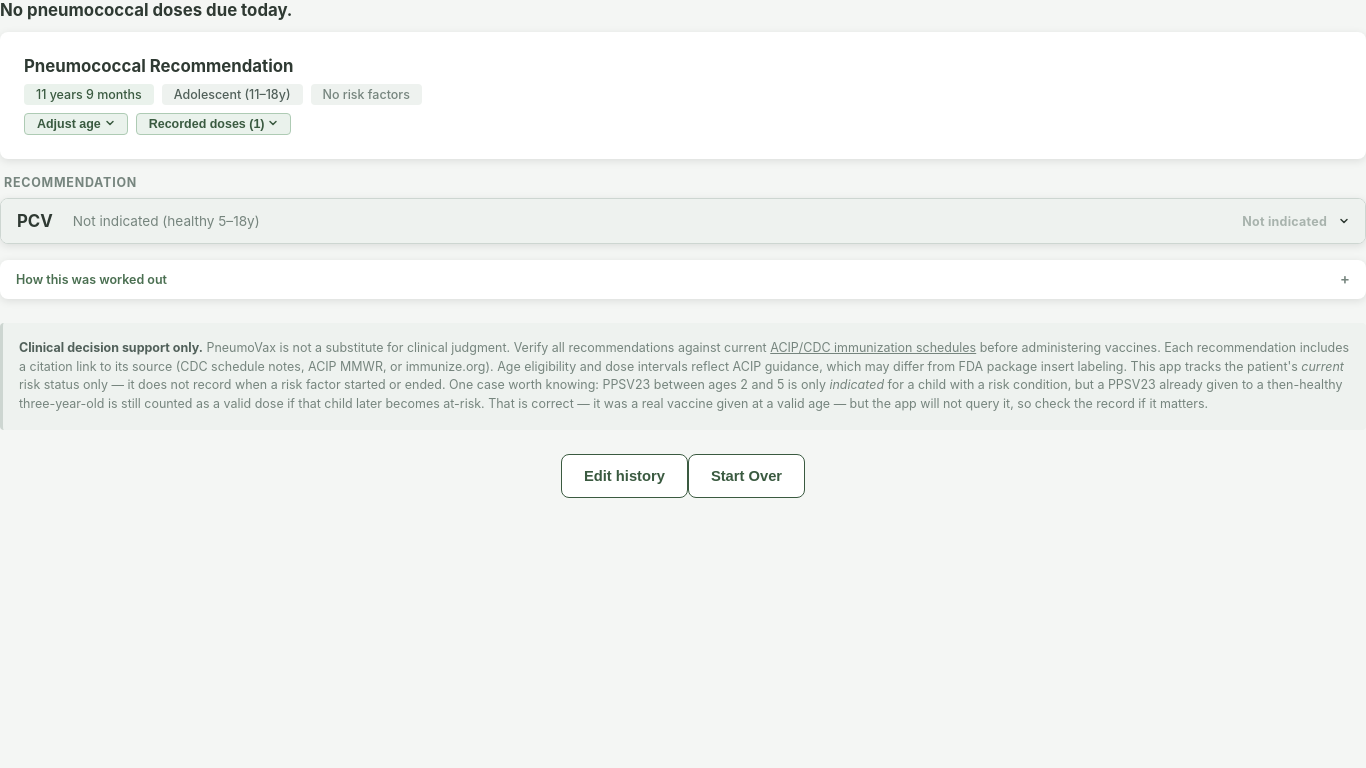
it: S11 / P5-5 — Escape closes the Results panels › sweeps never-typed rows on Escape, exactly as closing by mouse does
This screenshot has width=1366, height=768.
Click the button "Recorded doses (1)" at coordinates (214, 124), box top-left (136, 113), bottom-right (292, 135)
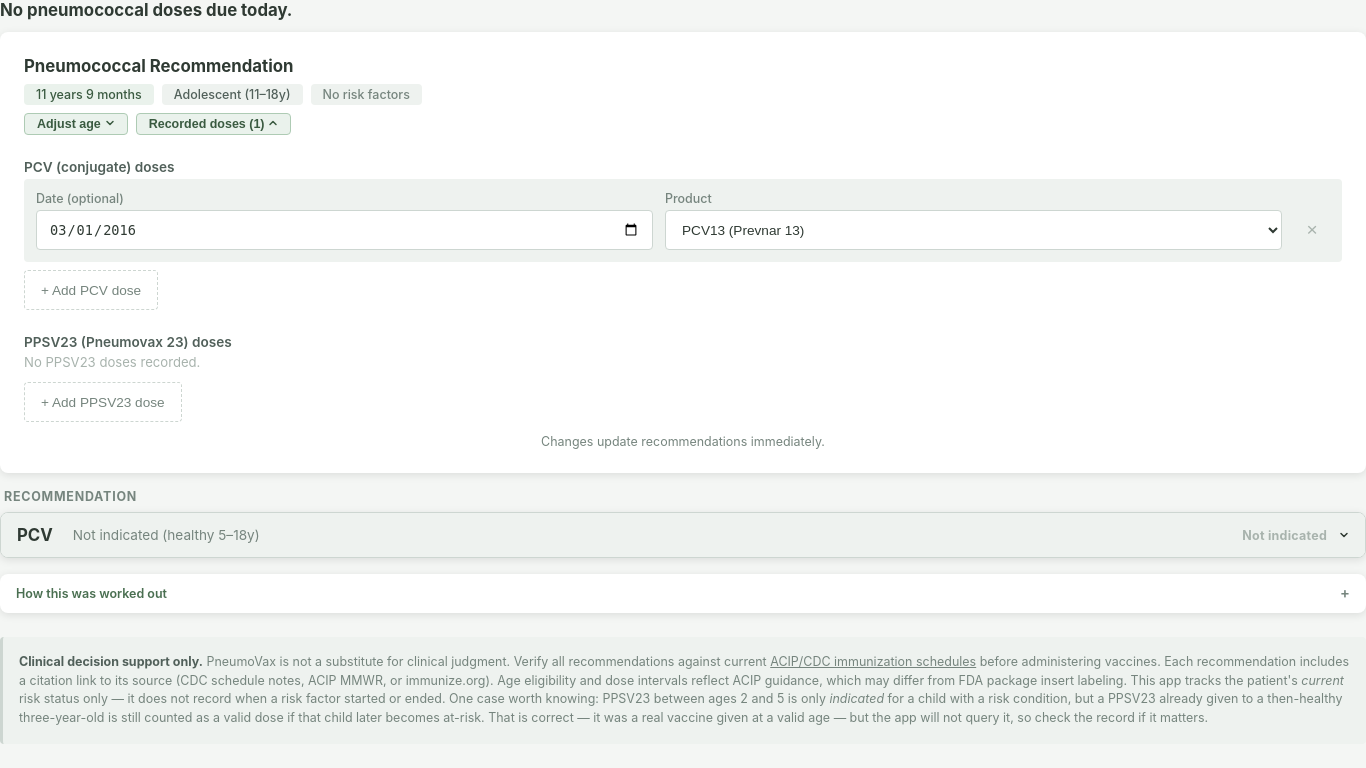
Click the button "+ Add PCV dose" at coordinates (91, 290), box top-left (24, 270), bottom-right (158, 310)
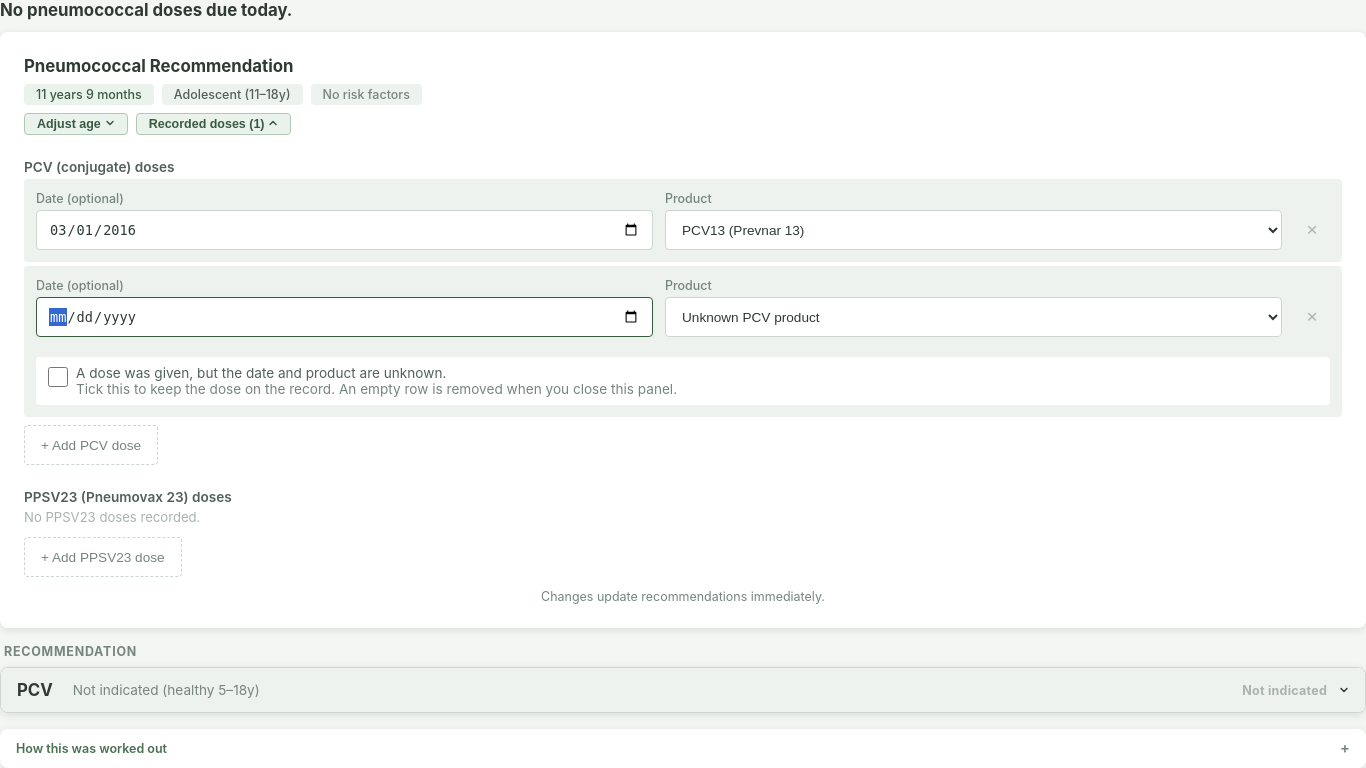
Expected: the number of elements with class "dose-row" is 2, top-left (24, 179), bottom-right (1342, 262); top-left (24, 266), bottom-right (1342, 417)
Press Escape
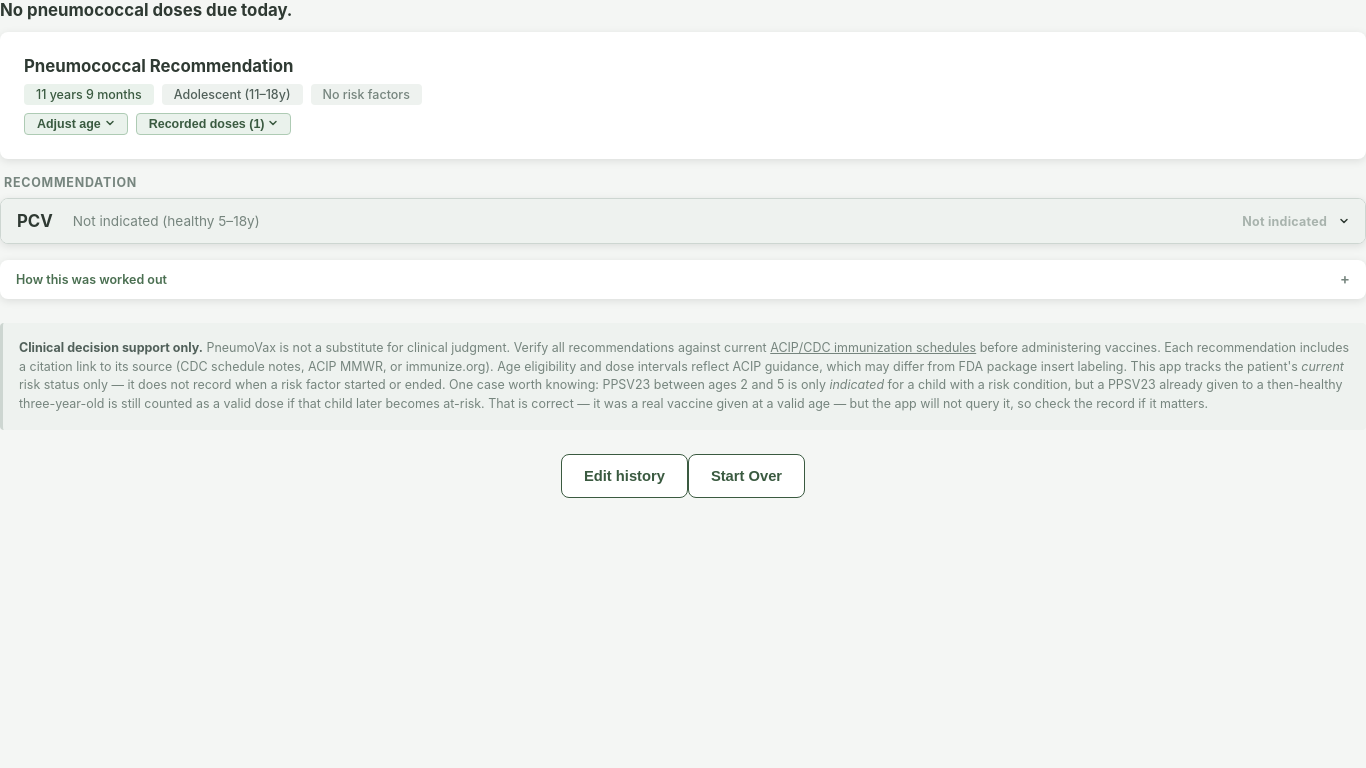
Expected: the element with test id "recorded-doses-panel" is gone
Click the button "Recorded doses (1)" at coordinates (214, 124), box top-left (136, 113), bottom-right (292, 135)
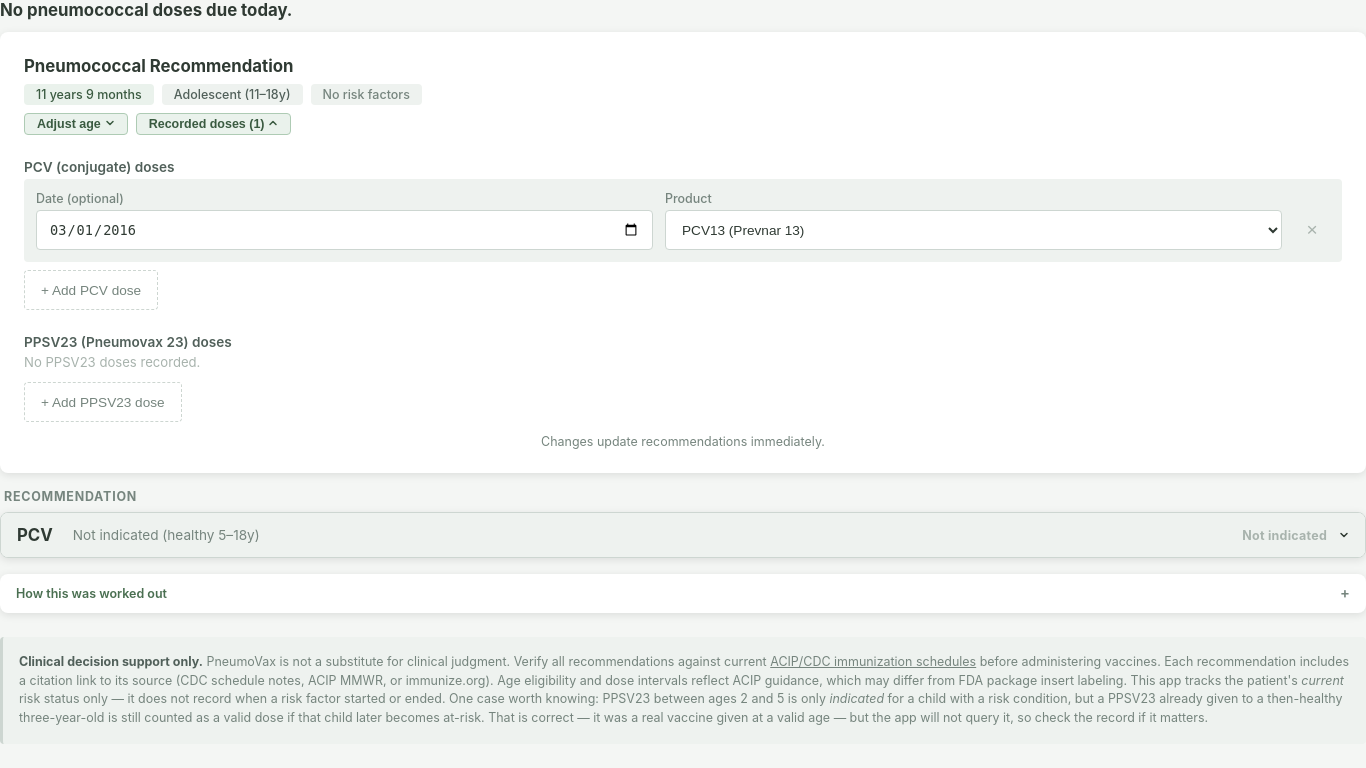
Expected: the number of elements with class "dose-row" is 1, top-left (24, 179), bottom-right (1342, 262)
